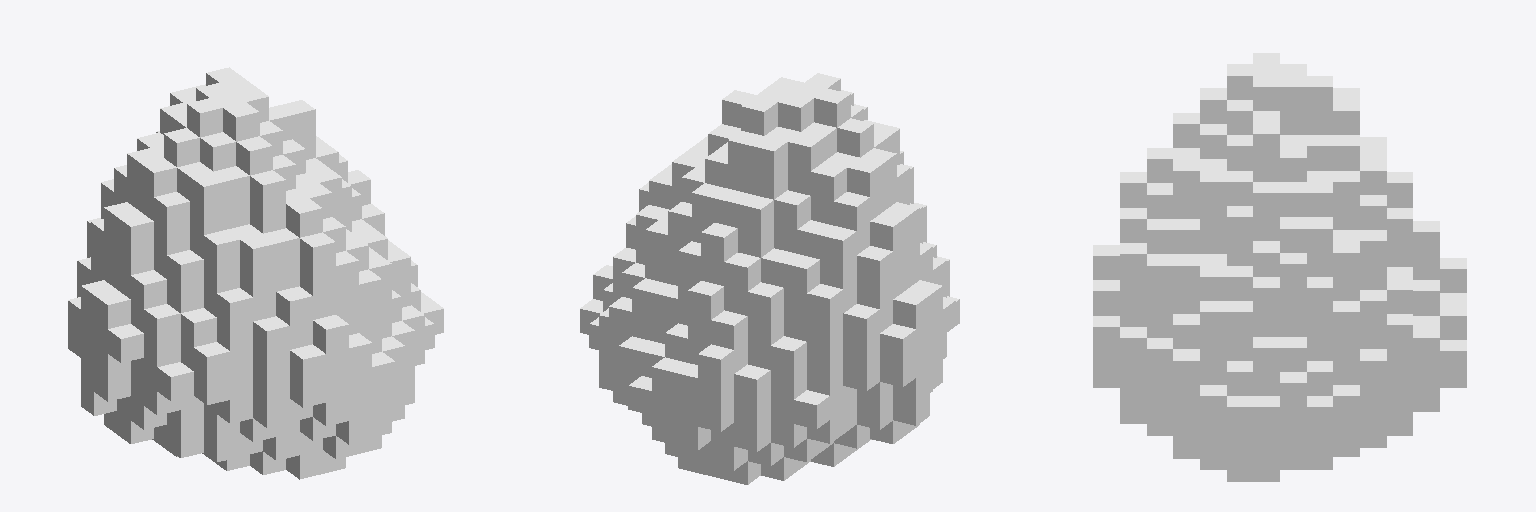
File: GoldMine.obj
3 views of the same model, side by side, from view 1: azimuth 30°, elevation 25°; view 2: azimuth 150°, elevation 25°; view 3: azimuth 270°, elevation 25° (orthographic).
Visible parts, largest first — view 1: object 1; view 2: object 1; view 3: object 1.
Boxes of the visible parts, box(x1,y1,x2,y2) form: object 1: box(68, 67, 443, 479); object 1: box(580, 73, 959, 484); object 1: box(1093, 53, 1466, 481).
Size of the model in its own units: 1.4 by 1.4 by 1.4.